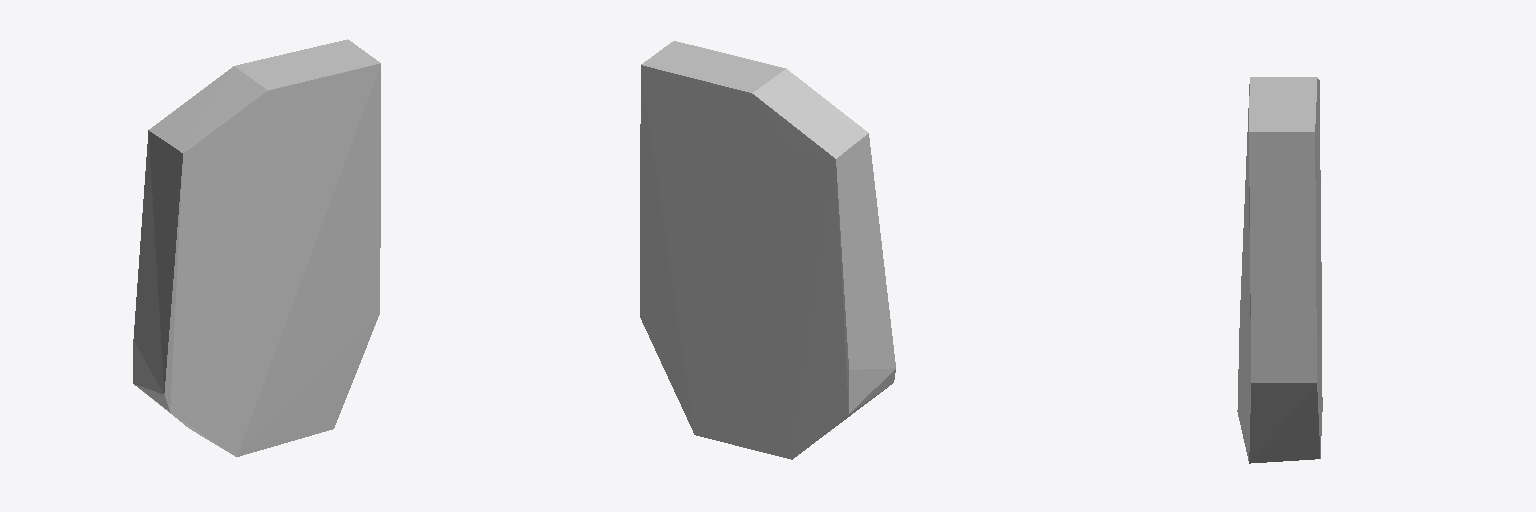
The model's file is dish_drainer_collision_19.obj.
The picture shows the model from 3 angles: view 1: azimuth 30°, elevation 25°; view 2: azimuth 150°, elevation 25°; view 3: azimuth 270°, elevation 25°; orthographic projection.
Bounding box in the file's own units: 0.0868 × 0.1338 × 0.0291.